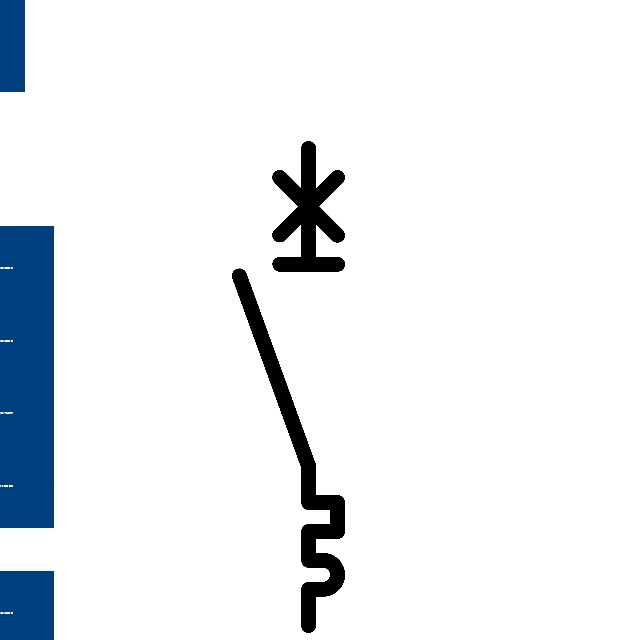interruptor_termomagnetico: (227, 136, 350, 638)
